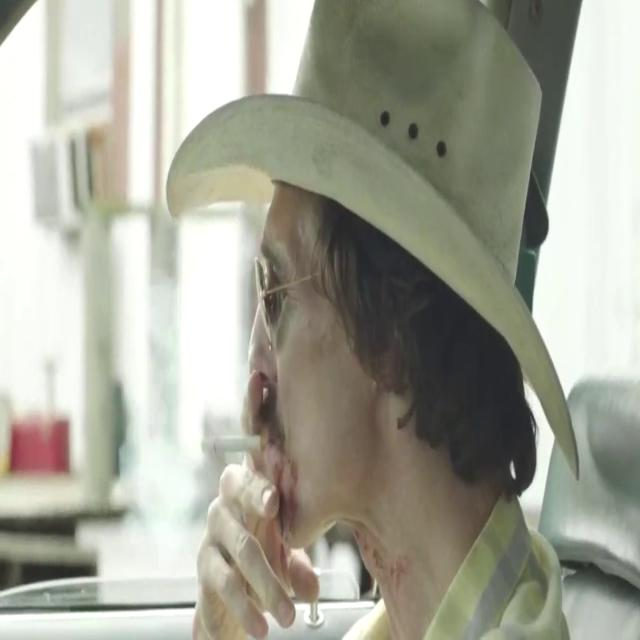Smooking: (193, 418, 266, 460)
